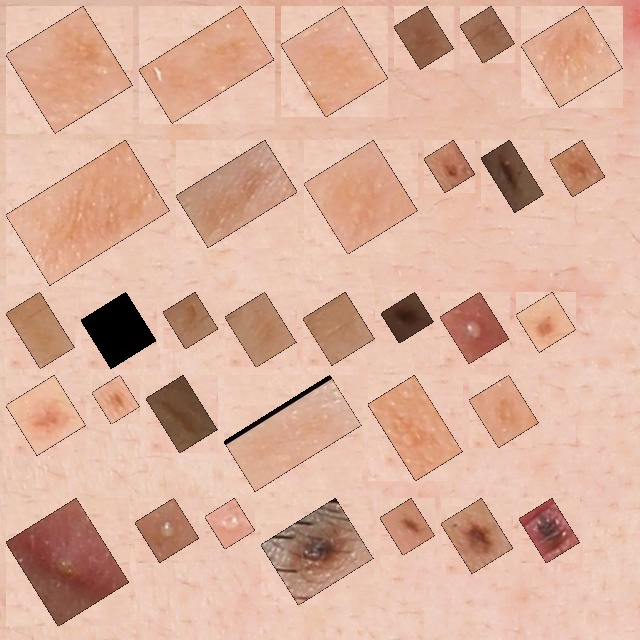melasma: (17, 151, 159, 274), (17, 17, 121, 122), (235, 386, 350, 480), (150, 17, 263, 112), (187, 151, 286, 236), (315, 151, 406, 243), (292, 17, 377, 106), (532, 17, 611, 96), (379, 386, 451, 469), (92, 303, 145, 357), (157, 386, 206, 442), (236, 303, 285, 356), (314, 303, 364, 354), (17, 303, 63, 357), (480, 386, 528, 436), (405, 17, 443, 58), (471, 17, 504, 52), (174, 303, 207, 338)
nevus: (272, 509, 362, 594), (17, 386, 75, 444), (452, 509, 502, 562), (492, 151, 533, 201), (530, 509, 569, 552), (527, 303, 565, 341), (561, 151, 594, 186), (391, 509, 424, 544), (435, 151, 464, 181), (392, 303, 422, 332), (103, 386, 129, 413)
pustule: (17, 509, 118, 615), (451, 303, 498, 353), (146, 509, 188, 551), (216, 509, 244, 538)
